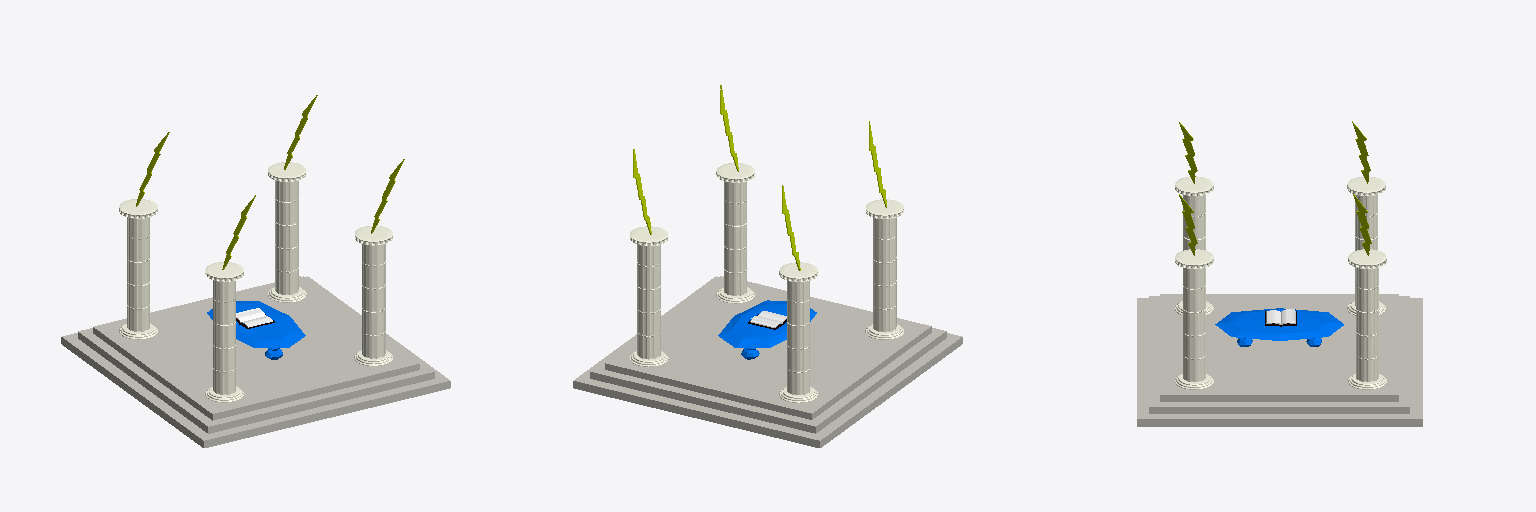
Rendered from LightningALTAR2.obj.
3 views of the same model, side by side, from view 1: azimuth 30°, elevation 25°; view 2: azimuth 150°, elevation 25°; view 3: azimuth 270°, elevation 25° (orthographic).
Visible parts, largest first — view 1: MushroomsALTAR2:altar:pCube15 MushroomsALTAR2:polySurface30, MushroomsALTAR2:altar:polySurface29 MushroomsALTAR2:altar:pCube1, MushroomsALTAR2:altar:pCube15 MushroomsALTAR2:polySurface29, MushroomsALTAR2:altar:pCylinder9, MushroomsALTAR2:altar:pCylinder10, MushroomsALTAR2:altar:pCylinder12, MushroomsALTAR2:altar:pCylinder11, MushroomsALTAR2:altar:polySurface26 MushroomsALTAR2:polySurface3; view 2: MushroomsALTAR2:altar:pCube15 MushroomsALTAR2:polySurface30, MushroomsALTAR2:altar:polySurface29 MushroomsALTAR2:altar:pCube1, MushroomsALTAR2:altar:pCube15 MushroomsALTAR2:polySurface29, MushroomsALTAR2:altar:pCylinder11, MushroomsALTAR2:altar:pCylinder9, MushroomsALTAR2:altar:pCylinder10, MushroomsALTAR2:altar:pCylinder12, MushroomsALTAR2:altar:polySurface26 MushroomsALTAR2:polySurface3; view 3: MushroomsALTAR2:altar:pCube15 MushroomsALTAR2:polySurface30, MushroomsALTAR2:altar:polySurface29 MushroomsALTAR2:altar:pCube1, MushroomsALTAR2:altar:pCube15 MushroomsALTAR2:polySurface29, MushroomsALTAR2:altar:pCylinder10, MushroomsALTAR2:altar:pCylinder9, MushroomsALTAR2:altar:polySurface26 MushroomsALTAR2:polySurface3, MushroomsALTAR2:altar:pCylinder12, MushroomsALTAR2:altar:pCylinder11.
Part boxes in pixels (x1,y1,x2,y2): MushroomsALTAR2:altar:pCube15 MushroomsALTAR2:polySurface30: (93,276,419,420); MushroomsALTAR2:altar:polySurface29 MushroomsALTAR2:altar:pCube1: (61,276,450,447); MushroomsALTAR2:altar:pCube15 MushroomsALTAR2:polySurface29: (78,276,434,433); MushroomsALTAR2:altar:pCylinder9: (268,162,306,302); MushroomsALTAR2:altar:pCylinder10: (354,226,392,365); MushroomsALTAR2:altar:pCylinder12: (119,199,157,339); MushroomsALTAR2:altar:pCylinder11: (205,262,243,402); MushroomsALTAR2:altar:polySurface26 MushroomsALTAR2:polySurface3: (207,301,305,359); MushroomsALTAR2:altar:pCube15 MushroomsALTAR2:polySurface30: (605,276,931,419); MushroomsALTAR2:altar:polySurface29 MushroomsALTAR2:altar:pCube1: (573,276,962,447); MushroomsALTAR2:altar:pCube15 MushroomsALTAR2:polySurface29: (590,276,946,433); MushroomsALTAR2:altar:pCylinder11: (865,199,903,339); MushroomsALTAR2:altar:pCylinder9: (630,226,668,366); MushroomsALTAR2:altar:pCylinder10: (716,163,754,303); MushroomsALTAR2:altar:pCylinder12: (779,262,817,402); MushroomsALTAR2:altar:polySurface26 MushroomsALTAR2:polySurface3: (718,300,816,359); MushroomsALTAR2:altar:pCube15 MushroomsALTAR2:polySurface30: (1160,294,1398,401); MushroomsALTAR2:altar:polySurface29 MushroomsALTAR2:altar:pCube1: (1137,298,1422,426); MushroomsALTAR2:altar:pCube15 MushroomsALTAR2:polySurface29: (1149,296,1409,413); MushroomsALTAR2:altar:pCylinder10: (1175,249,1213,389); MushroomsALTAR2:altar:pCylinder9: (1348,249,1386,389); MushroomsALTAR2:altar:polySurface26 MushroomsALTAR2:polySurface3: (1215,308,1343,346); MushroomsALTAR2:altar:pCylinder12: (1347,176,1385,315); MushroomsALTAR2:altar:pCylinder11: (1175,176,1213,314).
Size of the model in its own units: 13.82 by 11.81 by 13.82.